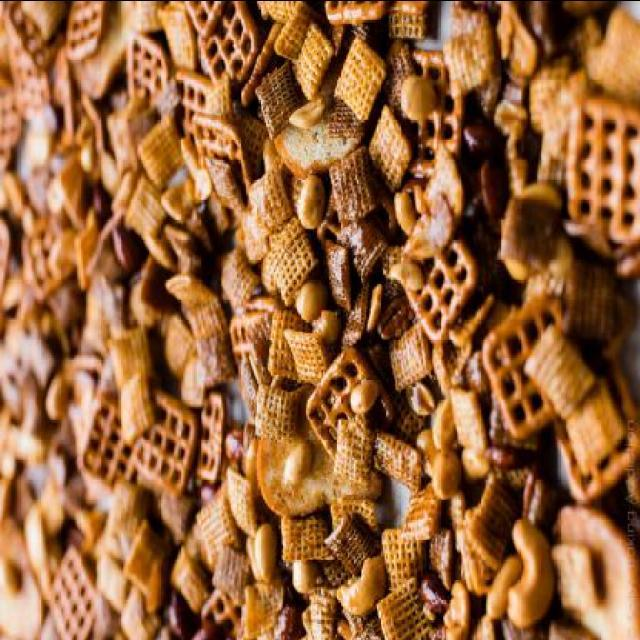Salatini packaged: (8, 8, 624, 630)
